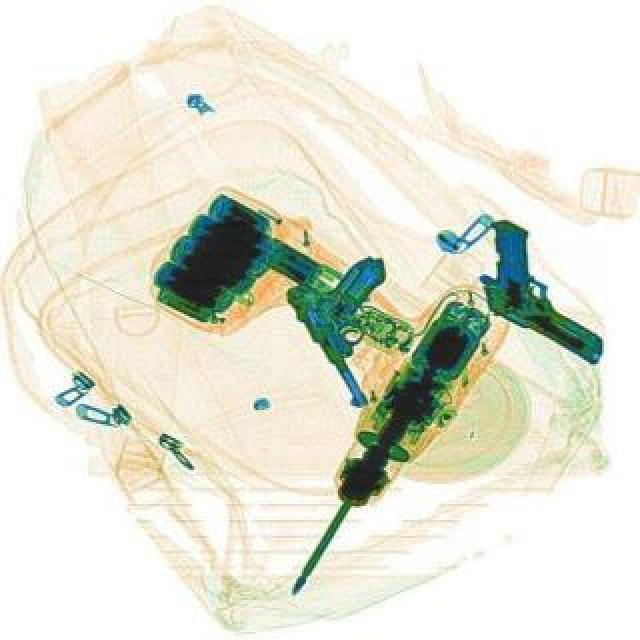gun: (276, 244, 440, 410), (452, 216, 640, 360)
